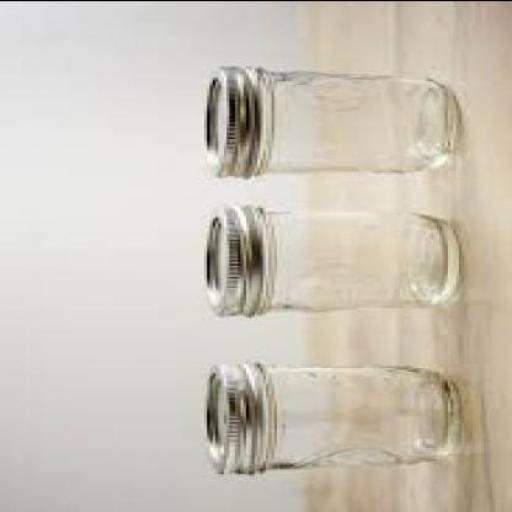glass: (250, 73, 458, 177), (249, 213, 454, 316), (249, 368, 456, 470)
metal: (201, 365, 263, 477), (204, 209, 264, 317), (204, 67, 260, 180)
